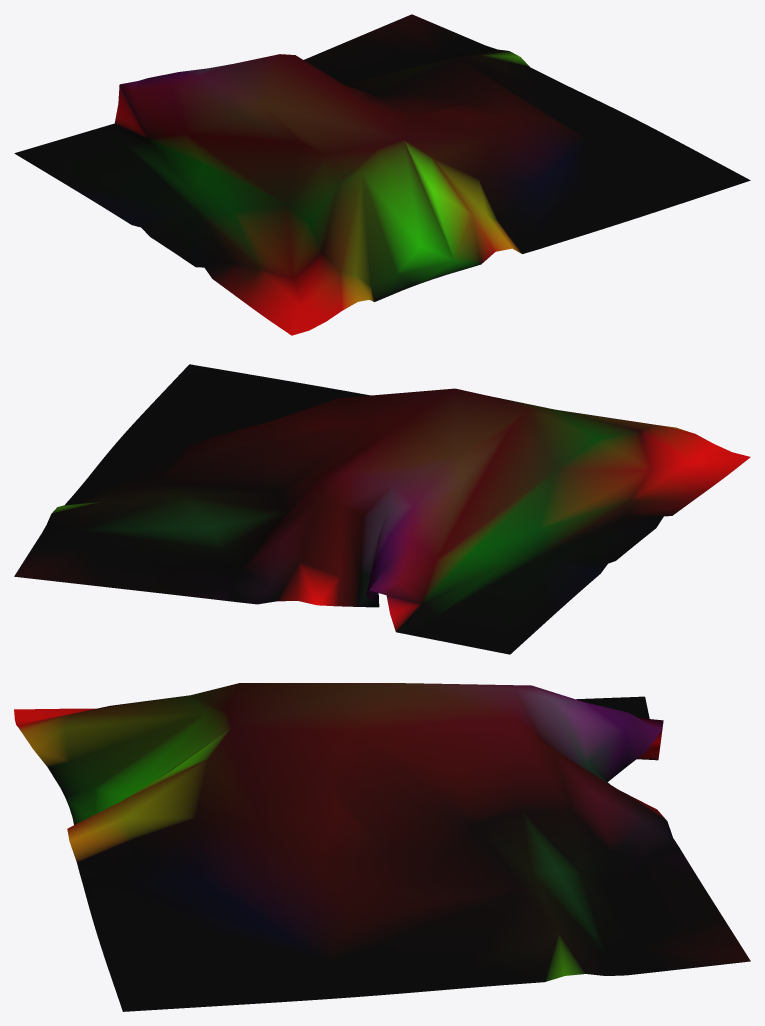
Rendered from 装饰布料.fbx.
3 renders of one model, top to bottom at view 1: azimuth 30°, elevation 25°; view 2: azimuth 150°, elevation 25°; view 3: azimuth 270°, elevation 25°, orthographic. The views are drawn at different scales.
Parts seen in each view (by area): view 1: 平面_1; view 2: 平面_1; view 3: 平面_1.
Boxes of the visible parts, <box> form: 平面_1: <box>14,14,750,335</box>; 平面_1: <box>14,364,750,654</box>; 平面_1: <box>14,683,750,1011</box>.
Bounding box in the file's own units: 312 × 49.57 × 308.
